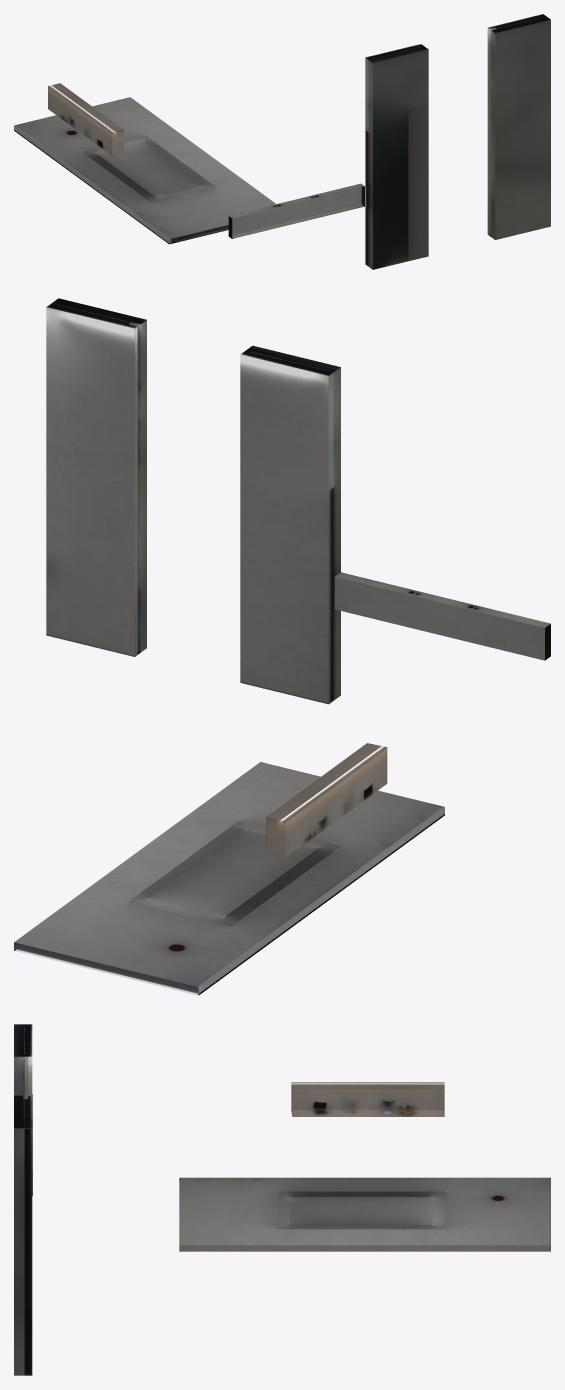
Rendered from WallWaterCloset_Lirio_Lt.glb.
The picture shows the model from 3 angles, top to bottom: view 1: azimuth 30°, elevation 25°; view 2: azimuth 150°, elevation 25°; view 3: azimuth 270°, elevation 25°; orthographic projection. The views are drawn at different scales.
Parts seen in each view (by area): view 1: WallWaterCloset_Lirio_Lt; view 2: WallWaterCloset_Lirio_Lt; view 3: WallWaterCloset_Lirio_Lt.
Part boxes in pixels (left/top/right/bottom): WallWaterCloset_Lirio_Lt: left=14, top=14, right=550, bottom=269; WallWaterCloset_Lirio_Lt: left=14, top=298, right=550, bottom=995; WallWaterCloset_Lirio_Lt: left=14, top=1024, right=550, bottom=1375.
Size of the model in its own units: 16.13 by 9.87 by 19.4.
1 material, 1 textured.
